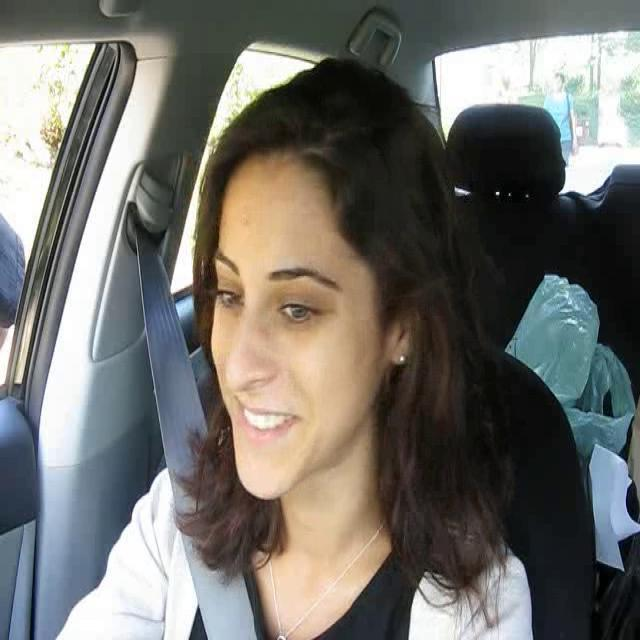open: (265, 265, 343, 341), (208, 246, 248, 324)
